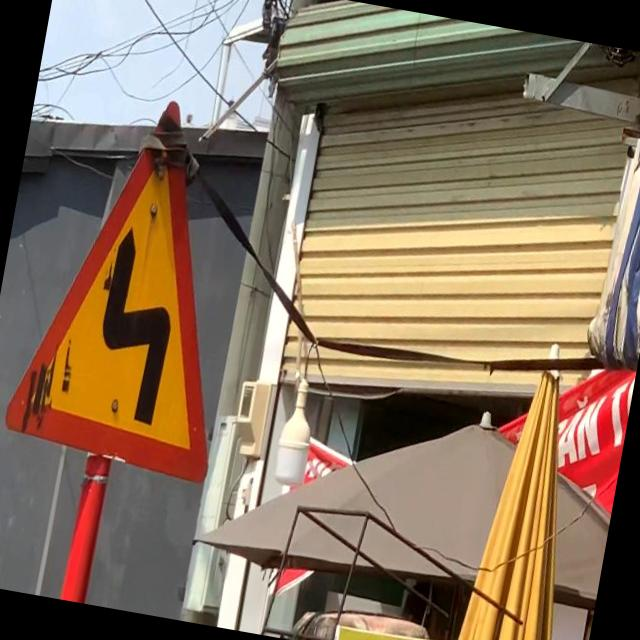W-202a: (2, 83, 269, 484)
